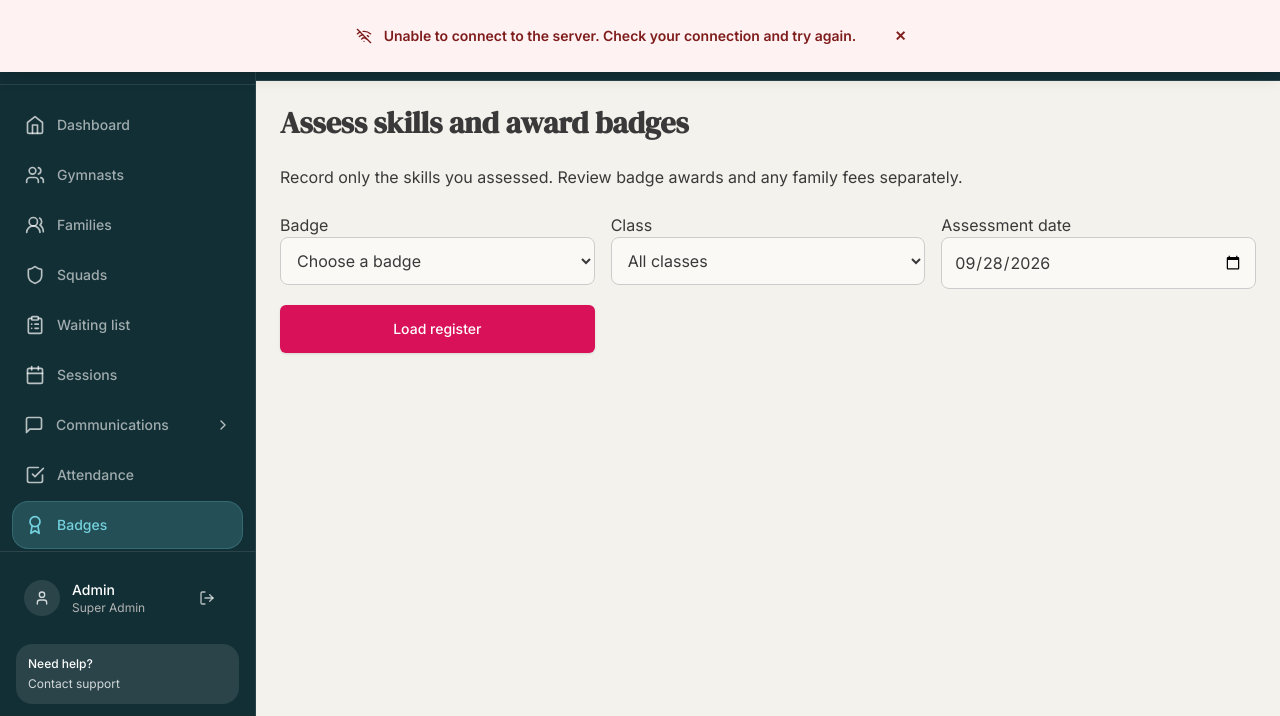
Test: Assessment flow › shows an existing badge award and invoice instead of suggesting another award
Select "British Gymnastics Rise: Explore 3" in the dropdown labelled "Badge". click: (437, 261)
box: top-left (280, 237), bottom-right (595, 285)
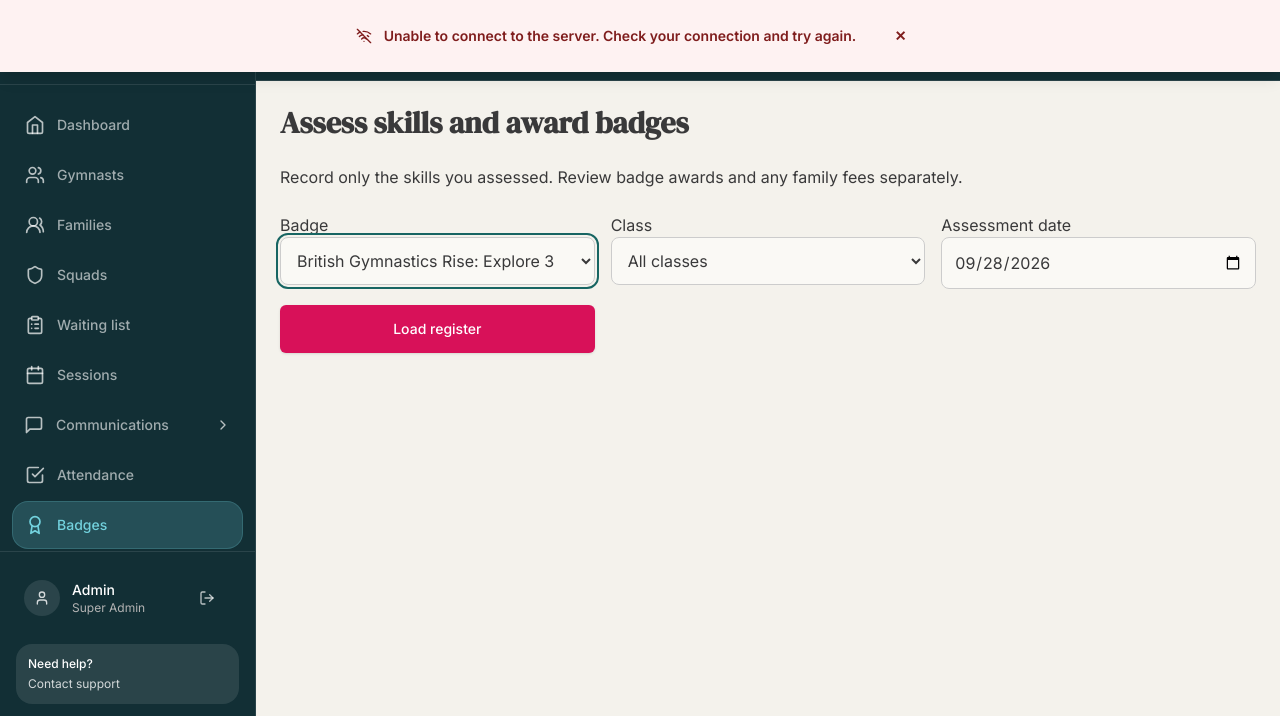
Click the button "Load register". click: (437, 329)
box: top-left (280, 305), bottom-right (595, 353)
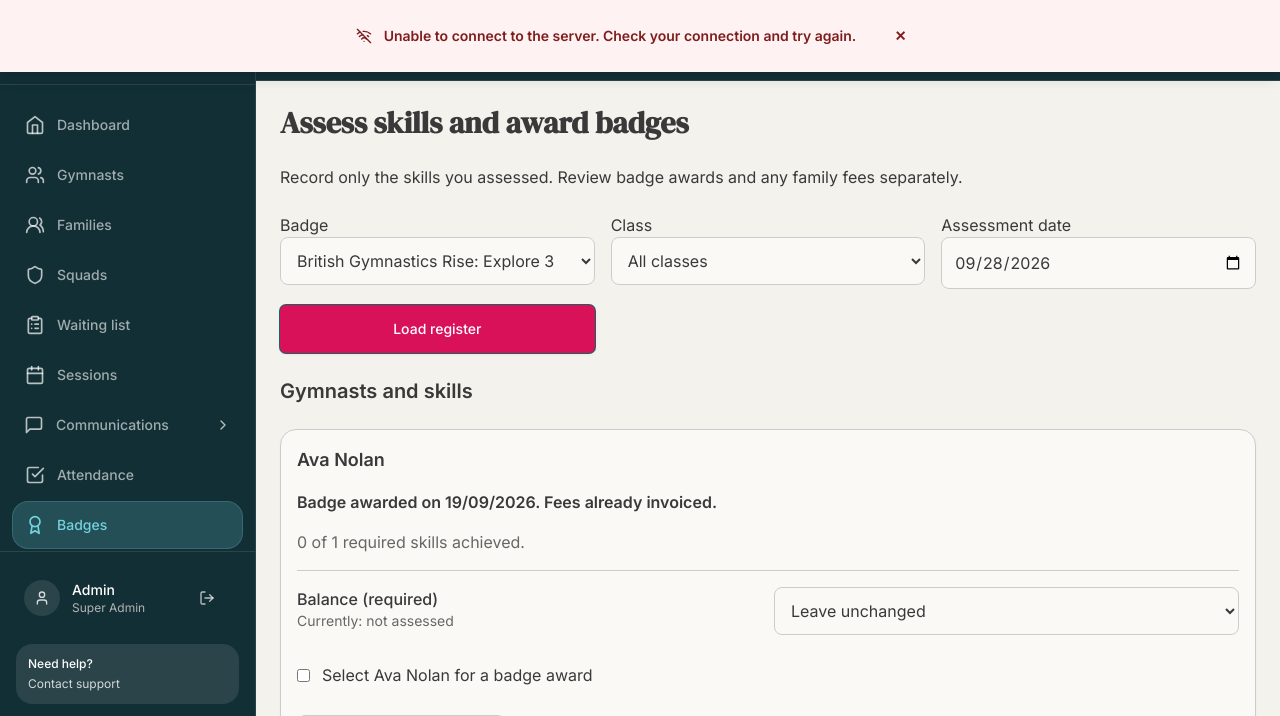
Check: the heading "Ava Nolan" is shown, box top-left (297, 449), bottom-right (385, 470)
Check: the dropdown named "Ava Nolan: Balance" is enabled, box top-left (774, 587), bottom-right (1239, 635)
Check: the text "Badge awarded on 19/09/2026. Fees already invoiced." is shown, box top-left (297, 492), bottom-right (717, 512)
